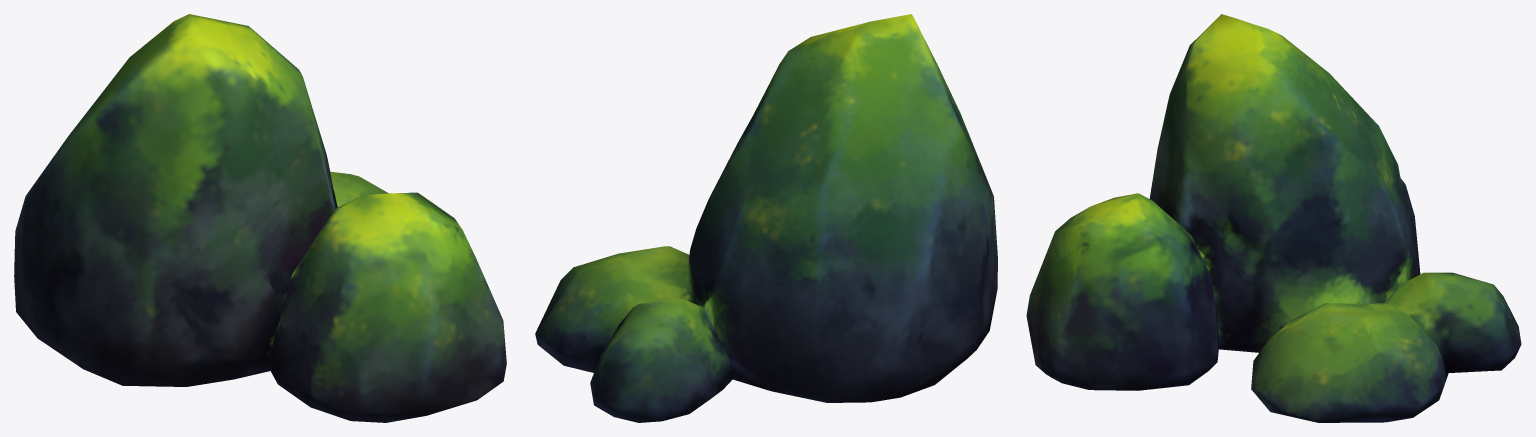
Rendered from rocks.glb.
3 renders of one model, left to right at view 1: azimuth 30°, elevation 25°; view 2: azimuth 150°, elevation 25°; view 3: azimuth 270°, elevation 25°, orthographic. The views are drawn at different scales.
Parts seen in each view (by area): view 1: rock1; view 2: rock1; view 3: rock1.
Boxes of the visible parts, x1,y1,x2,y2 form: rock1: [14, 14, 506, 422]; rock1: [535, 14, 997, 422]; rock1: [1026, 14, 1521, 422].
Size of the model in its own units: 1.26 by 1 by 1.54.
Materials: 1 (1 with a texture image).
